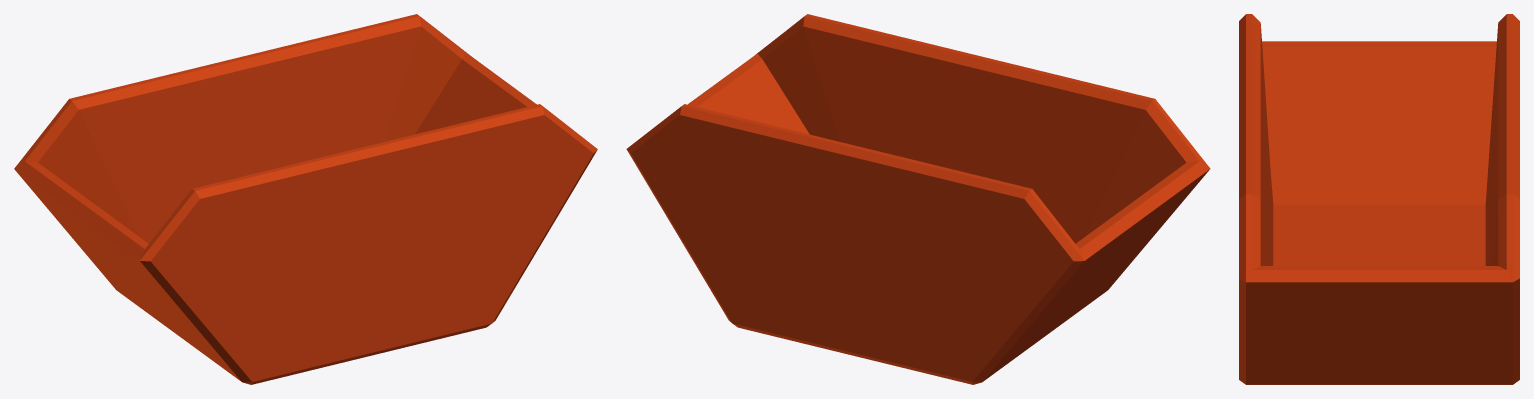
The model's file is skip.glb.
The picture shows the model from 3 angles, left to right: view 1: azimuth 30°, elevation 25°; view 2: azimuth 150°, elevation 25°; view 3: azimuth 270°, elevation 25°; orthographic projection. The views are drawn at different scales.
Parts seen in each view (by area): view 1: Skip; view 2: Skip; view 3: Skip.
Boxes of the visible parts, x1,y1,x2,y2 form: Skip: [14, 14, 597, 384]; Skip: [626, 14, 1210, 384]; Skip: [1239, 14, 1519, 384].
Bounding box in the file's own units: 5.5 × 2.38 × 2.75.
